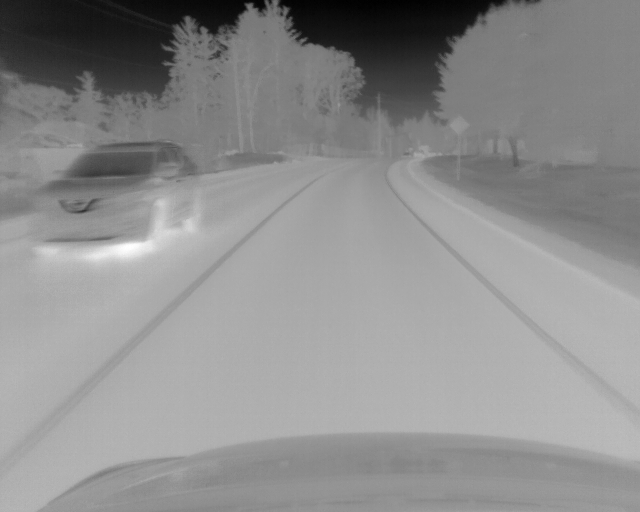car: (29, 141, 201, 253)
